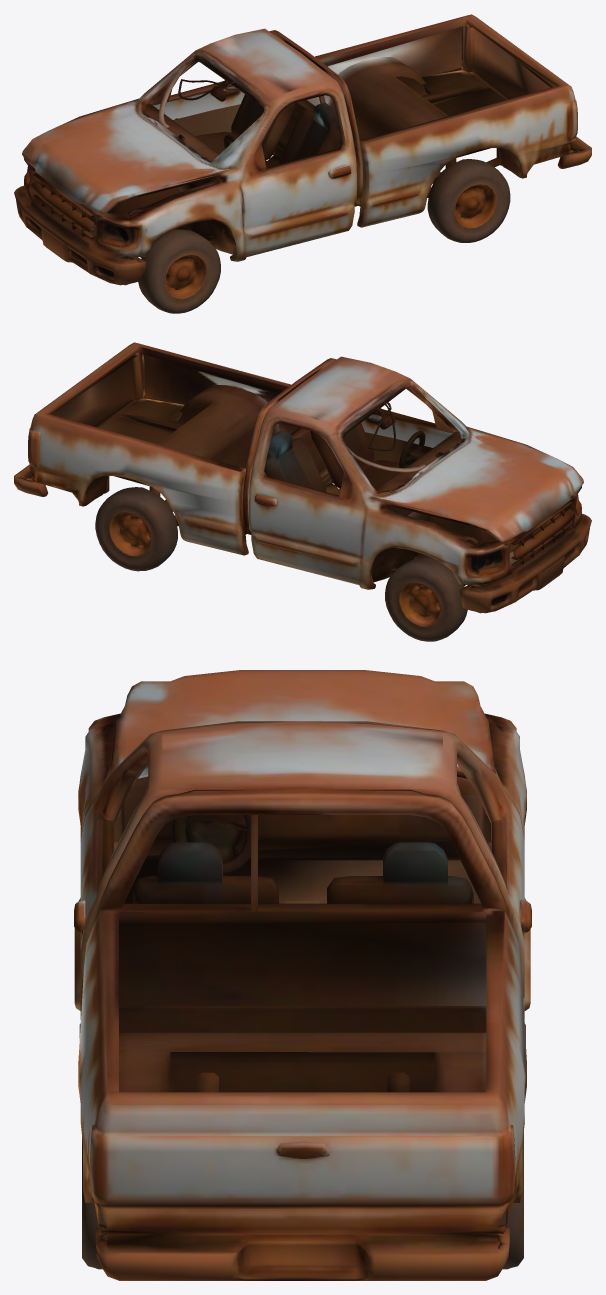
Rendered from rusty_crashed_pickup_truck_3820a2c5_v4.glb.
The picture shows the model from 3 angles, top to bottom: view 1: azimuth 30°, elevation 25°; view 2: azimuth 150°, elevation 25°; view 3: azimuth 270°, elevation 25°; orthographic projection. The views are drawn at different scales.
Visible parts, largest first — view 1: material; view 2: material; view 3: material.
Boxes of the visible parts, bbox=[...] form: material: bbox=[14, 14, 591, 313]; material: bbox=[14, 342, 591, 641]; material: bbox=[74, 670, 531, 1280].
Bounding box in the file's own units: 1.9 × 0.6783 × 0.7674.
Materials: 1 (1 with a texture image).
